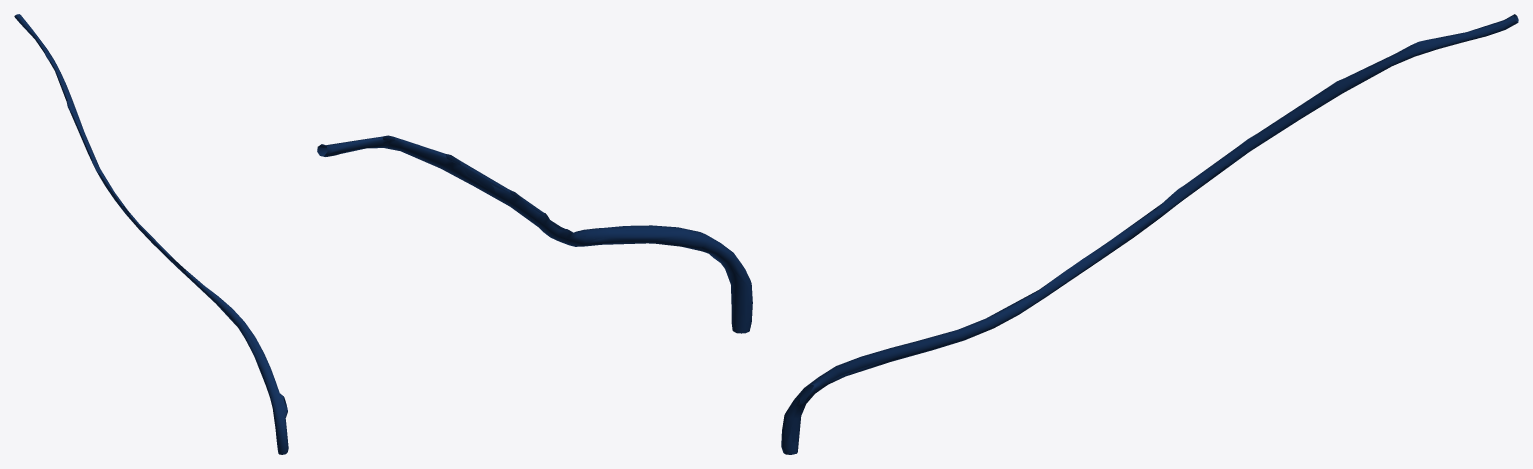
File: vena azygos dextra.fbx
3 renders of one model, left to right at view 1: azimuth 30°, elevation 25°; view 2: azimuth 150°, elevation 25°; view 3: azimuth 270°, elevation 25°, orthographic. The views are drawn at different scales.
Visible parts, largest first — view 1: vena azygos dextra, vena azygos dextra low; view 2: vena azygos dextra low, vena azygos dextra; view 3: vena azygos dextra, vena azygos dextra low.
Part boxes in pixels (x1,y1,x2,y2): vena azygos dextra: [14, 14, 288, 454]; vena azygos dextra low: [15, 15, 288, 451]; vena azygos dextra low: [318, 136, 748, 332]; vena azygos dextra: [317, 135, 752, 333]; vena azygos dextra: [781, 14, 1518, 454]; vena azygos dextra low: [781, 15, 1517, 453].
Size of the model in its own units: 3.94 by 18.2 by 29.15.
